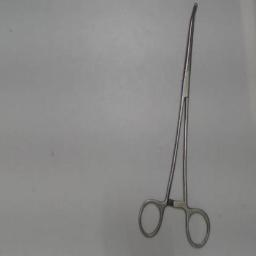Lahey Forceps: (135, 0, 213, 252)
